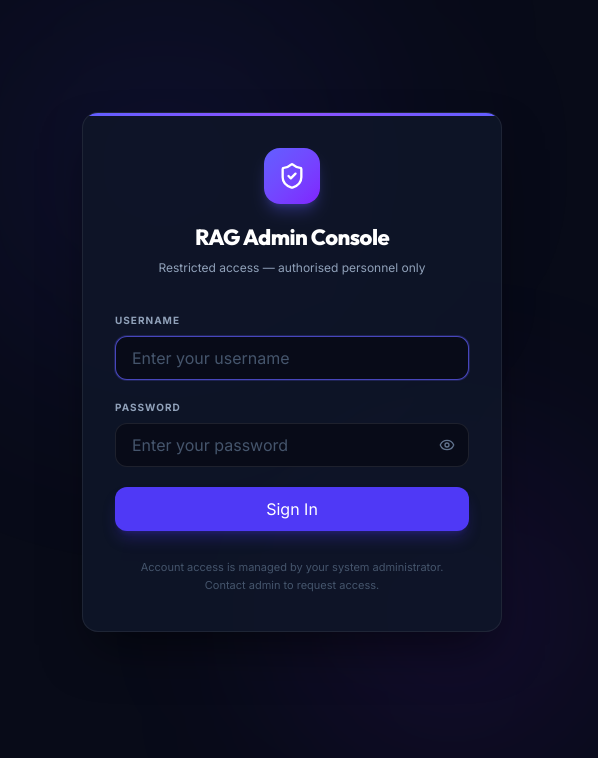
it: Login Feature Integration Tests › shows error validation when submitting empty username
The width and height of the screenshot is (598, 758).
Click the button "Sign In".
click(292, 509)  # box [115,487,469,531]
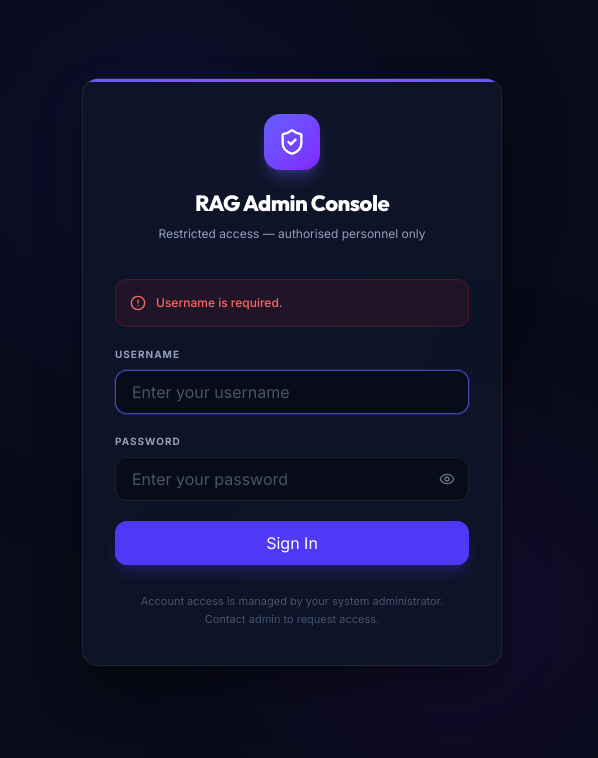
Expected: the text "Username is required." is shown, [156,294,282,312]
